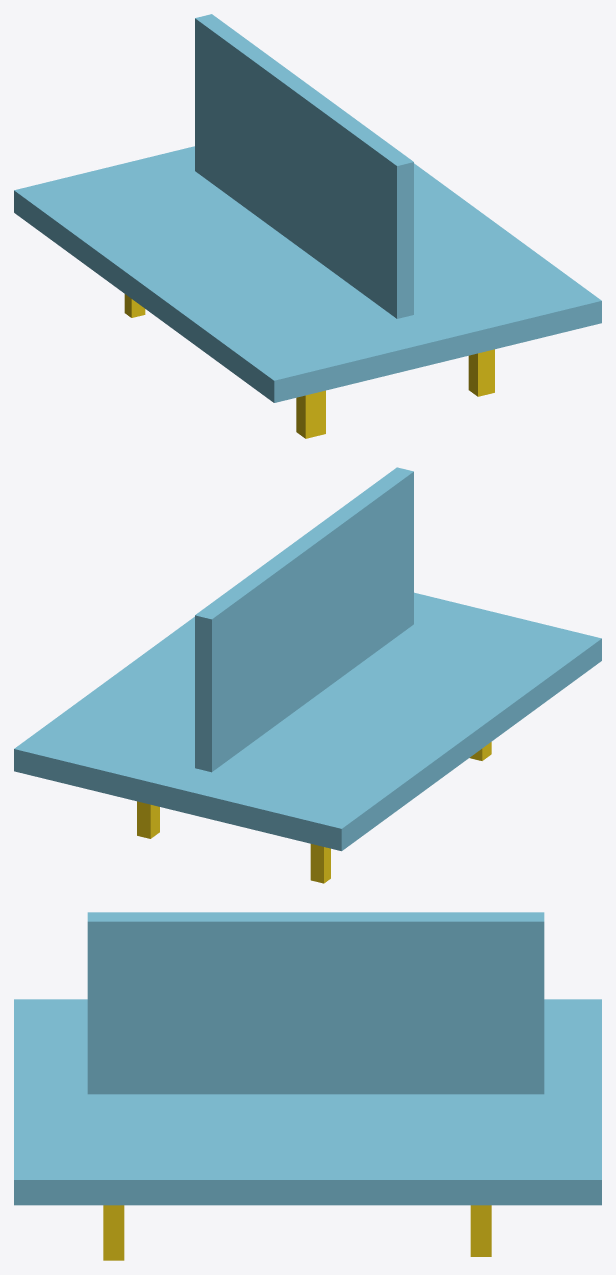
The model's file is 10_Chairs_AIRPORT_0.obj.
The picture shows the model from 3 angles, top to bottom: view 1: azimuth 30°, elevation 25°; view 2: azimuth 150°, elevation 25°; view 3: azimuth 270°, elevation 25°; orthographic projection. The views are drawn at different scales.
Visible parts, largest first — view 1: obj_4, obj_5, obj_0, obj_2; view 2: obj_4, obj_5, obj_1, obj_3; view 3: obj_5, obj_4, obj_2, obj_1.
Boxes of the visible parts, bbox=[...] form: obj_4: bbox=[14, 146, 601, 402]; obj_5: bbox=[195, 14, 413, 318]; obj_0: bbox=[296, 390, 325, 438]; obj_2: bbox=[468, 349, 494, 396]; obj_4: bbox=[14, 592, 601, 851]; obj_5: bbox=[195, 467, 413, 772]; obj_1: bbox=[137, 801, 159, 838]; obj_3: bbox=[310, 844, 330, 883]; obj_5: bbox=[87, 912, 544, 1094]; obj_4: bbox=[14, 999, 601, 1205]; obj_2: bbox=[103, 1205, 124, 1260]; obj_1: bbox=[470, 1205, 491, 1256].
Bounding box in the file's own units: 1.33 × 1 × 1.83.
